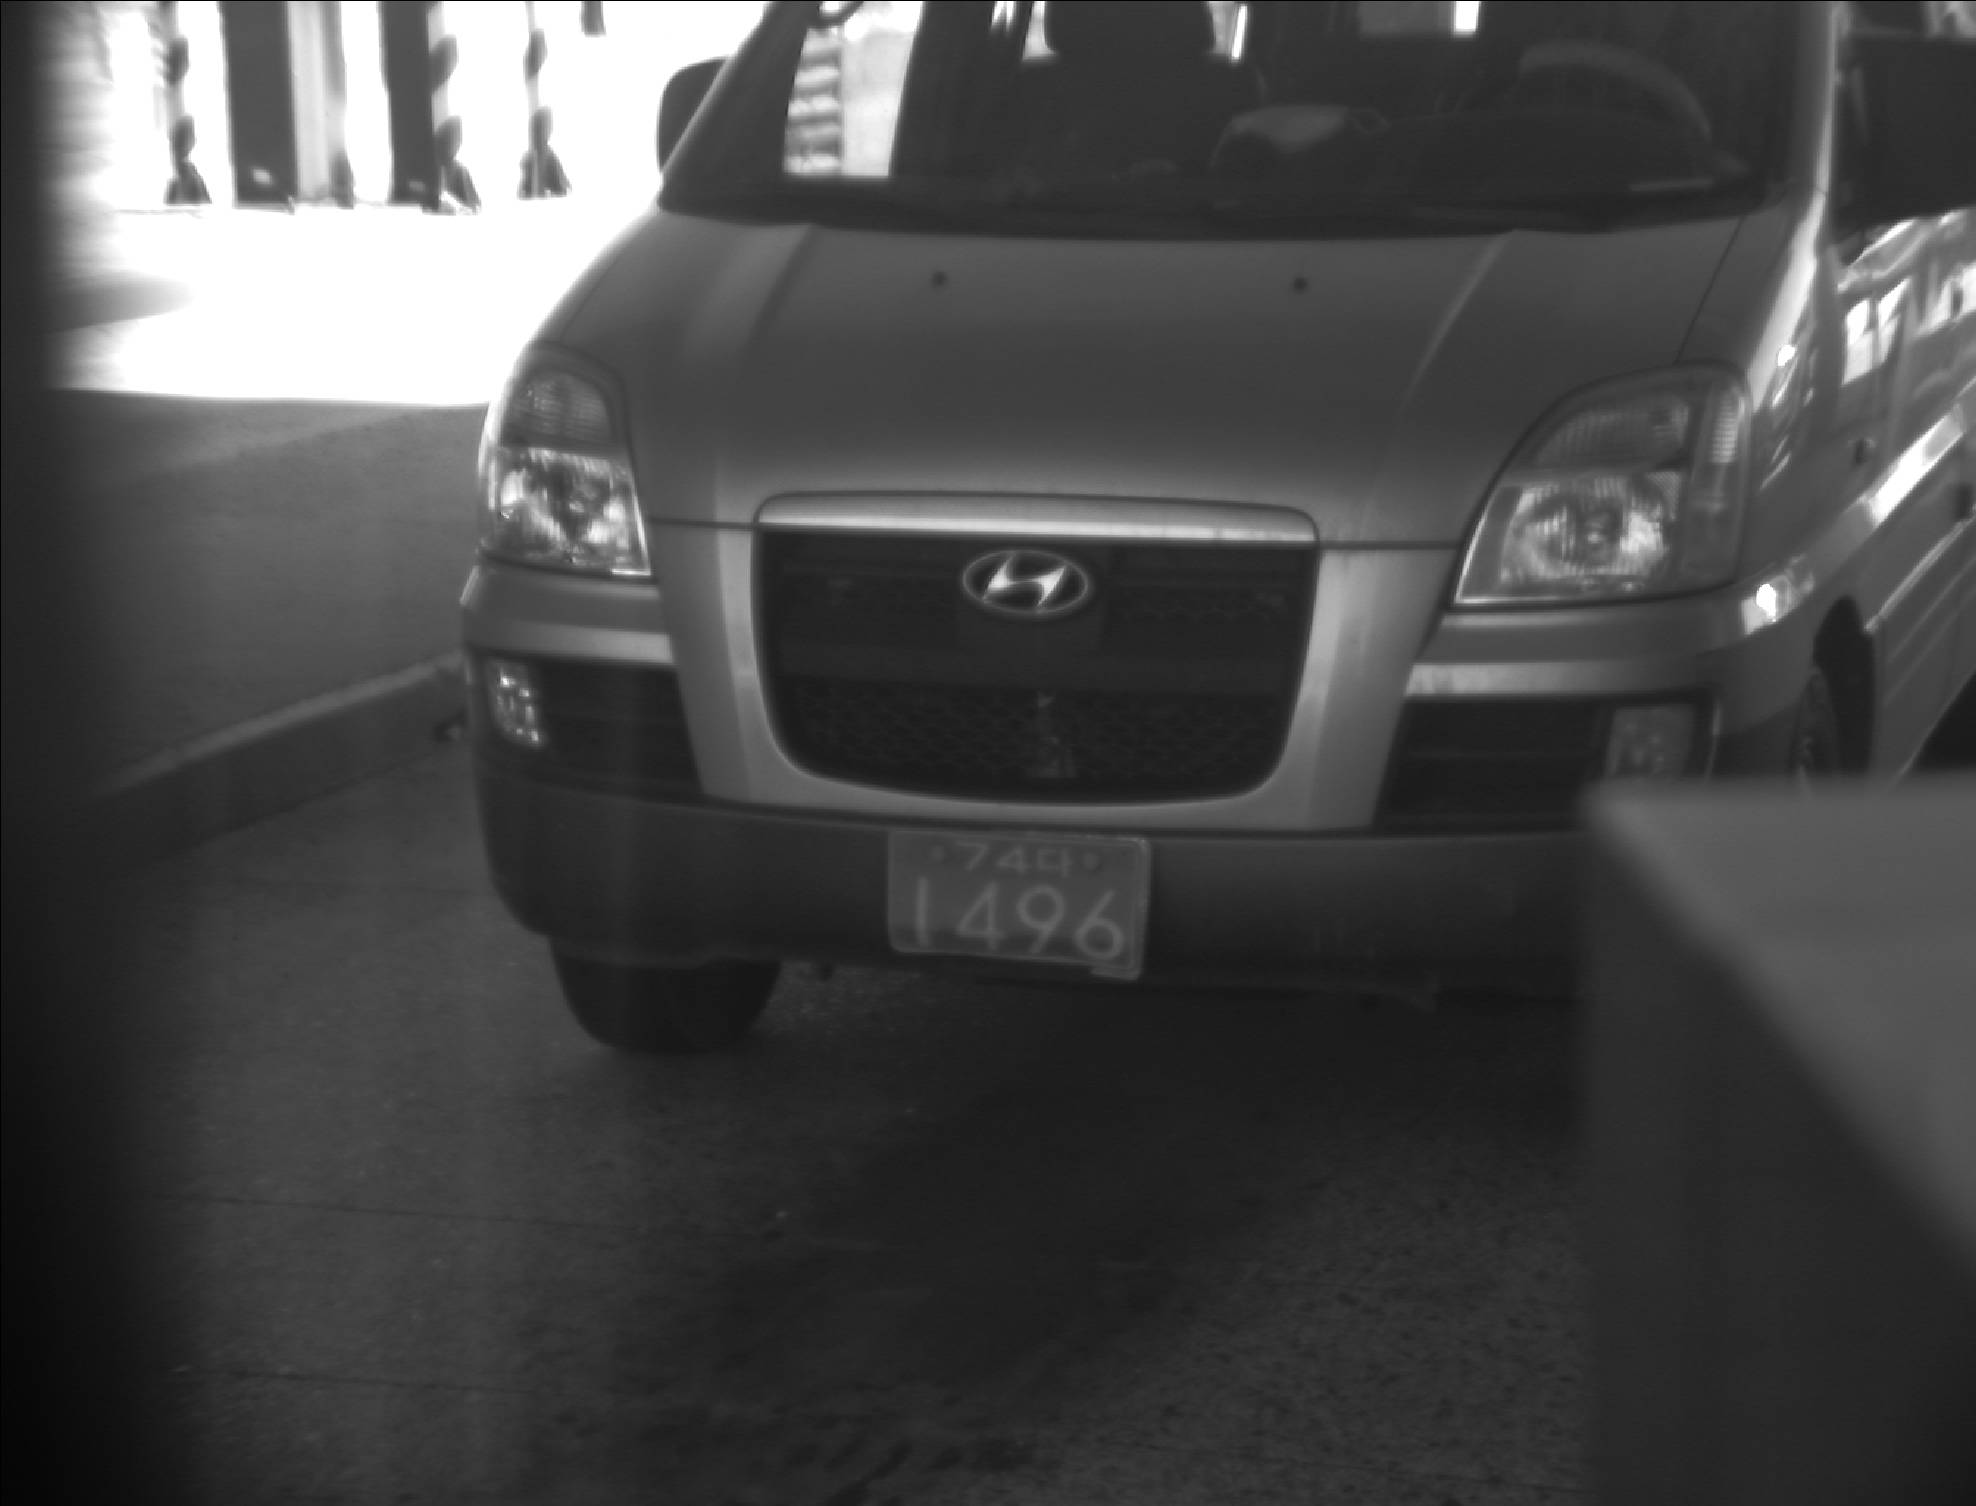car: (451, 3, 1976, 1072)
plate: (876, 814, 1159, 978)
